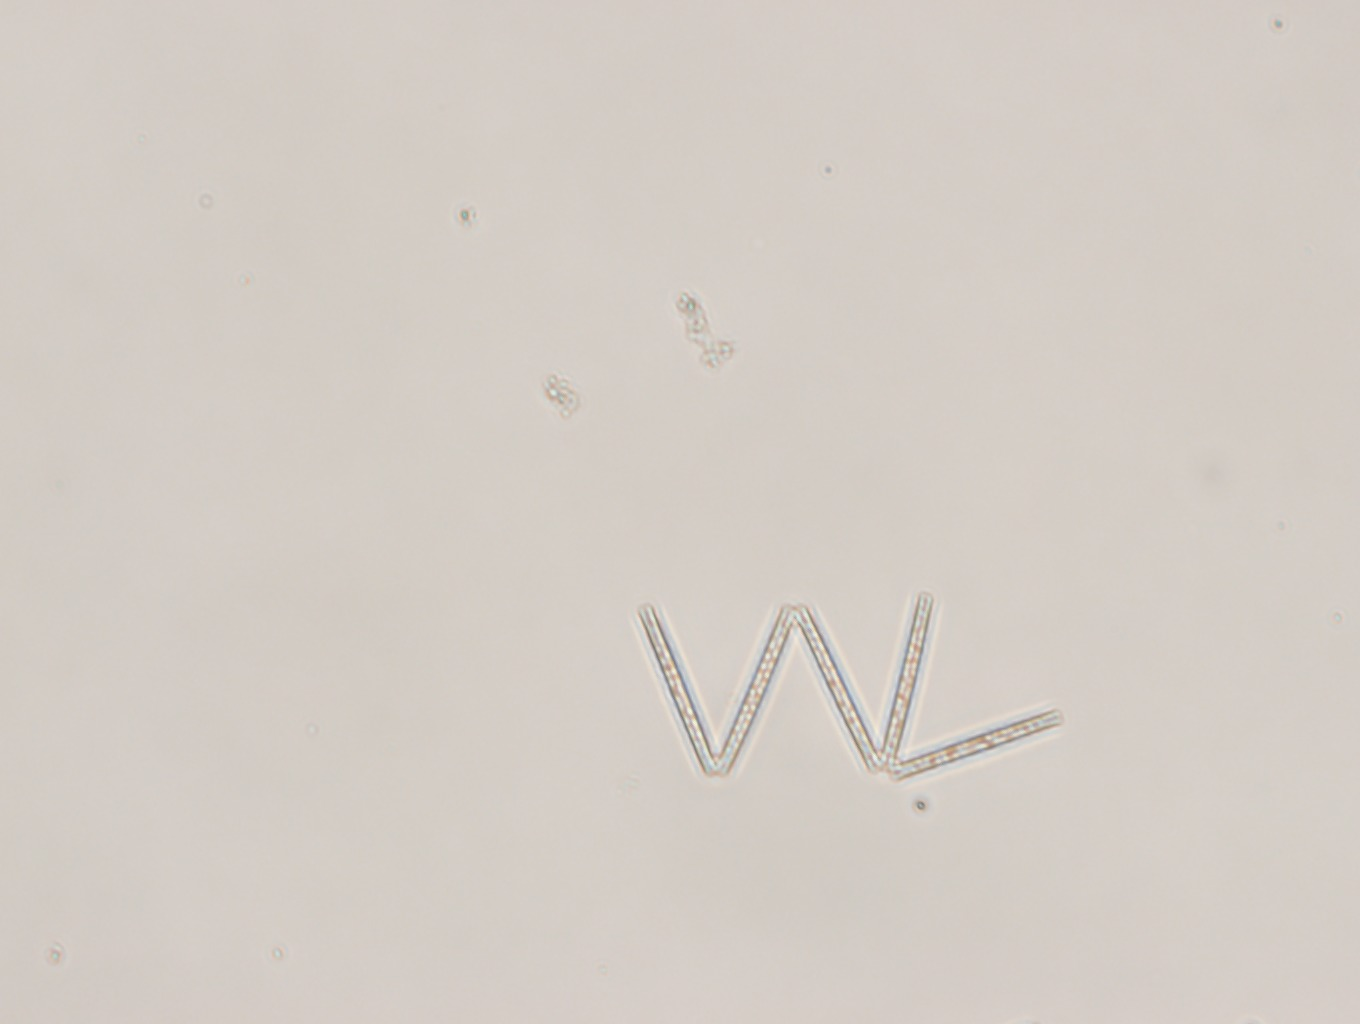thalassionema nitzschioides: (634, 593, 1061, 782)
